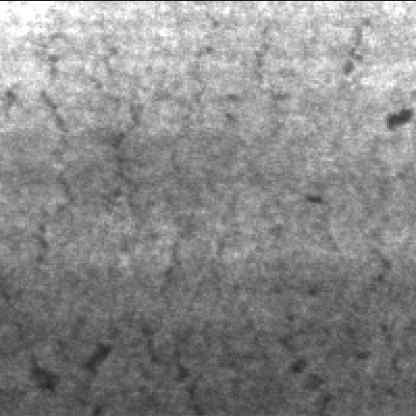crazing: (37, 17, 287, 278), (3, 314, 332, 414), (304, 181, 408, 412)
